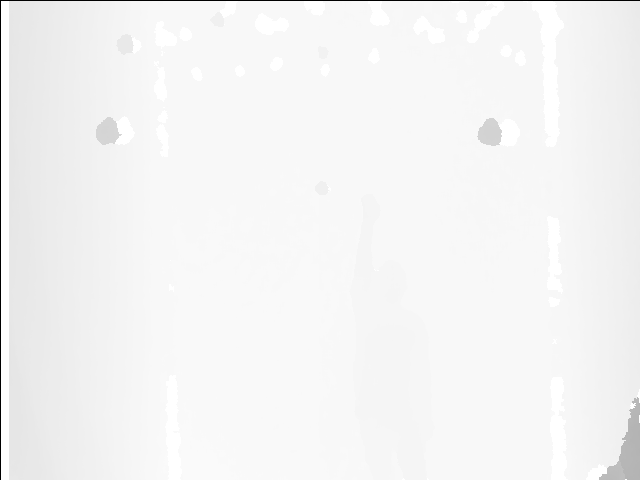hand: (360, 194, 381, 226)
